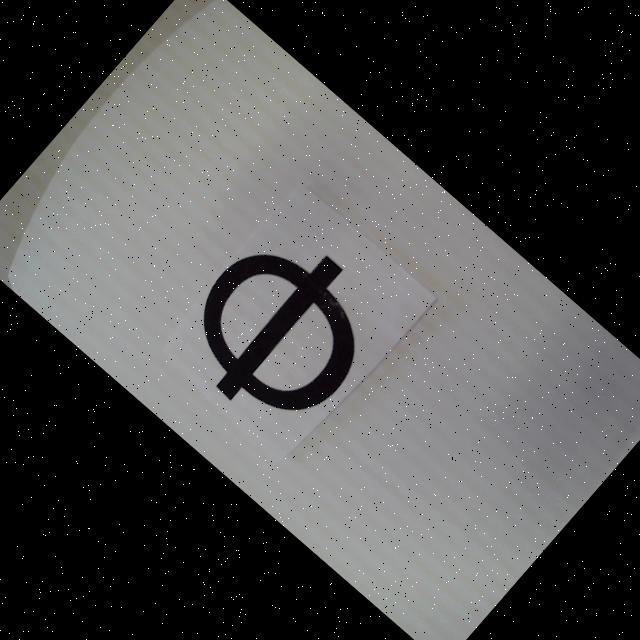PHI: (162, 212, 399, 449)
